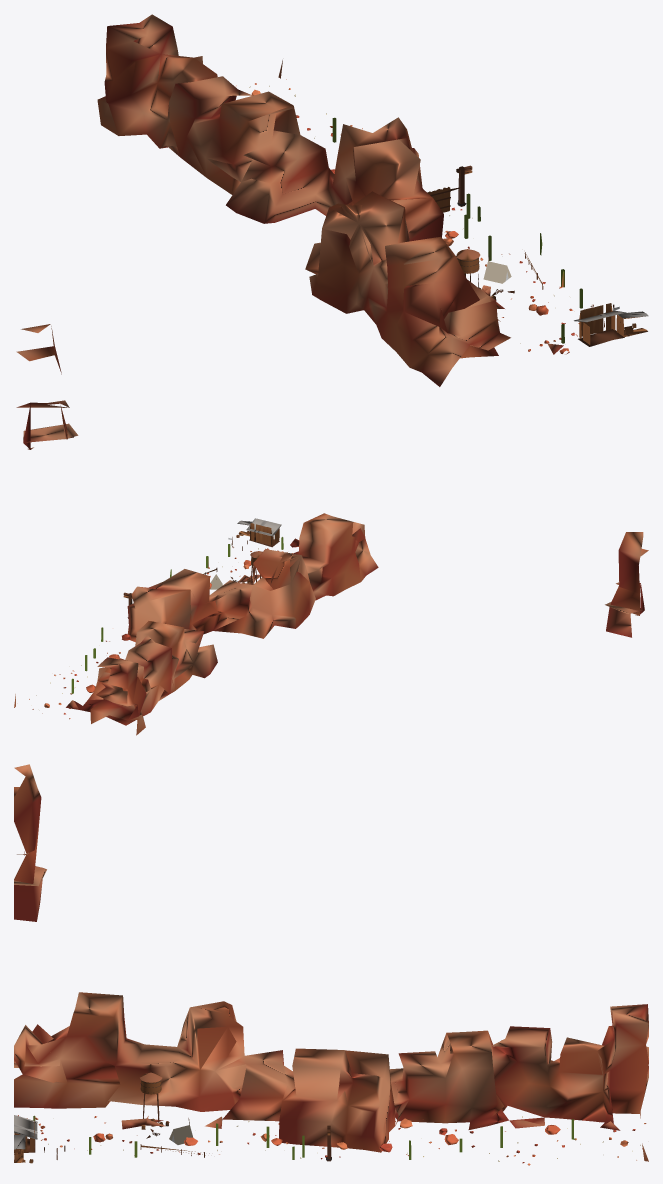
The picture shows the model from 3 angles, top to bottom: view 1: azimuth 30°, elevation 25°; view 2: azimuth 150°, elevation 25°; view 3: azimuth 270°, elevation 25°; orthographic projection. The views are drawn at different scales.
Visible parts, largest first — view 1: scene.l1.1.1 (×2); view 2: scene.l1.1.1 (×2); view 3: scene.l1.1.1 (×2).
Part boxes in pixels (<box>): scene.l1.1.1 (×2): <box>16,14,648,449</box>; scene.l1.1.1 (×2): <box>14,513,648,735</box>; scene.l1.1.1 (×2): <box>14,764,648,1165</box>.
Size of the model in its own units: 125 by 29.86 by 125.
